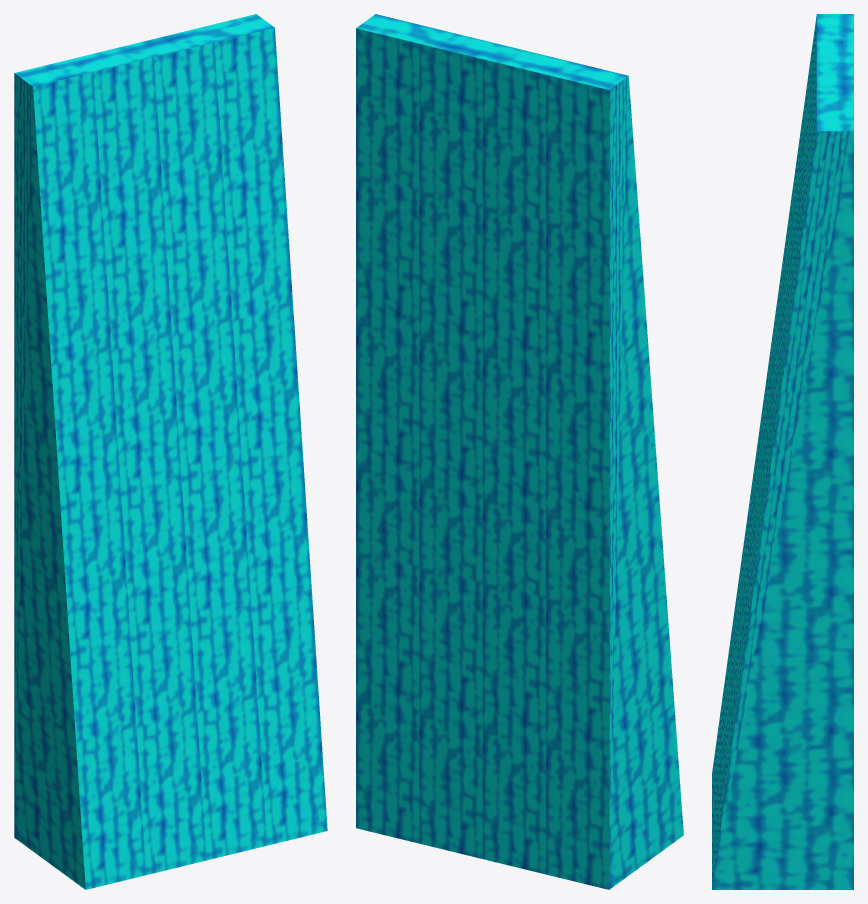
The model's file is SM_Decoration_GreatWall_01.fbx.
The picture shows the model from 3 angles, left to right: view 1: azimuth 30°, elevation 25°; view 2: azimuth 150°, elevation 25°; view 3: azimuth 270°, elevation 25°; orthographic projection. The views are drawn at different scales.
Visible parts, largest first — view 1: SM_Decoration_GreatWall_01; view 2: SM_Decoration_GreatWall_01; view 3: SM_Decoration_GreatWall_01.
Boxes of the visible parts, box(x1,y1,x2,y2) form: SM_Decoration_GreatWall_01: box(14, 14, 327, 889); SM_Decoration_GreatWall_01: box(356, 14, 683, 889); SM_Decoration_GreatWall_01: box(712, 14, 853, 889).
Bounding box in the file's own units: 35.14 × 106 × 17.96.
Materials: 1 (1 with a texture image).
